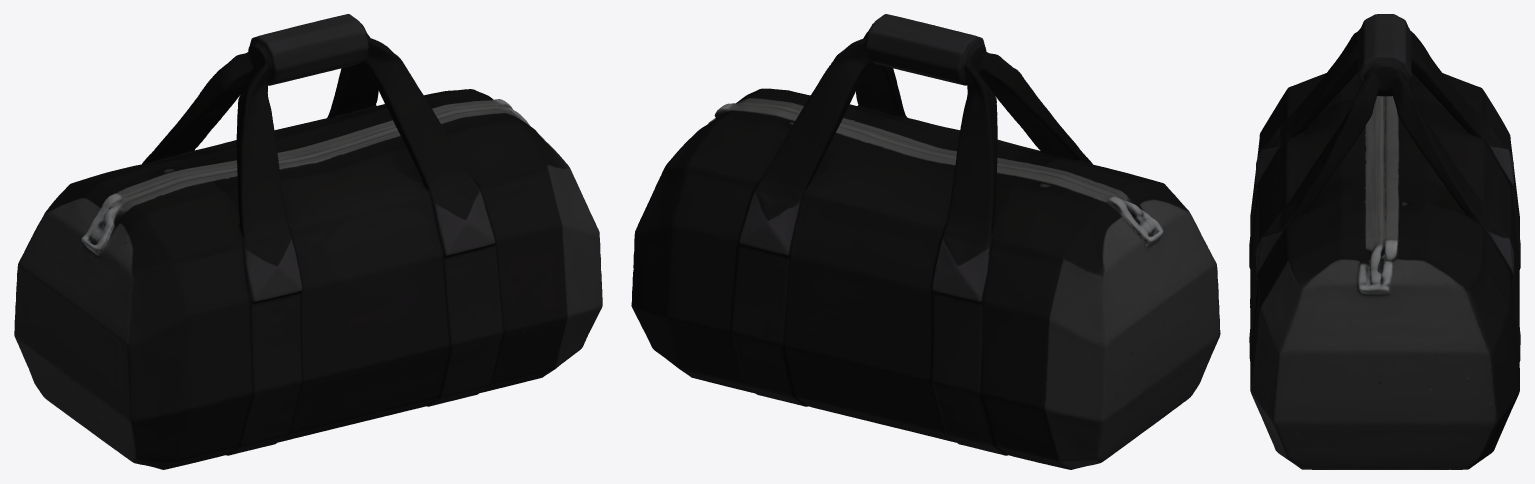
The model's file is black_bag.glb.
3 renders of one model, left to right at view 1: azimuth 30°, elevation 25°; view 2: azimuth 150°, elevation 25°; view 3: azimuth 270°, elevation 25°, orthographic. The views are drawn at different scales.
Parts seen in each view (by area): view 1: world; view 2: world; view 3: world.
Part boxes in pixels (box(x1,y1,x2,y2)): world: box(14, 14, 602, 469); world: box(631, 14, 1220, 469); world: box(1249, 14, 1520, 469).
Bounding box in the file's own units: 1 × 0.7384 × 0.5236.
Materials: 1 (1 with a texture image).
